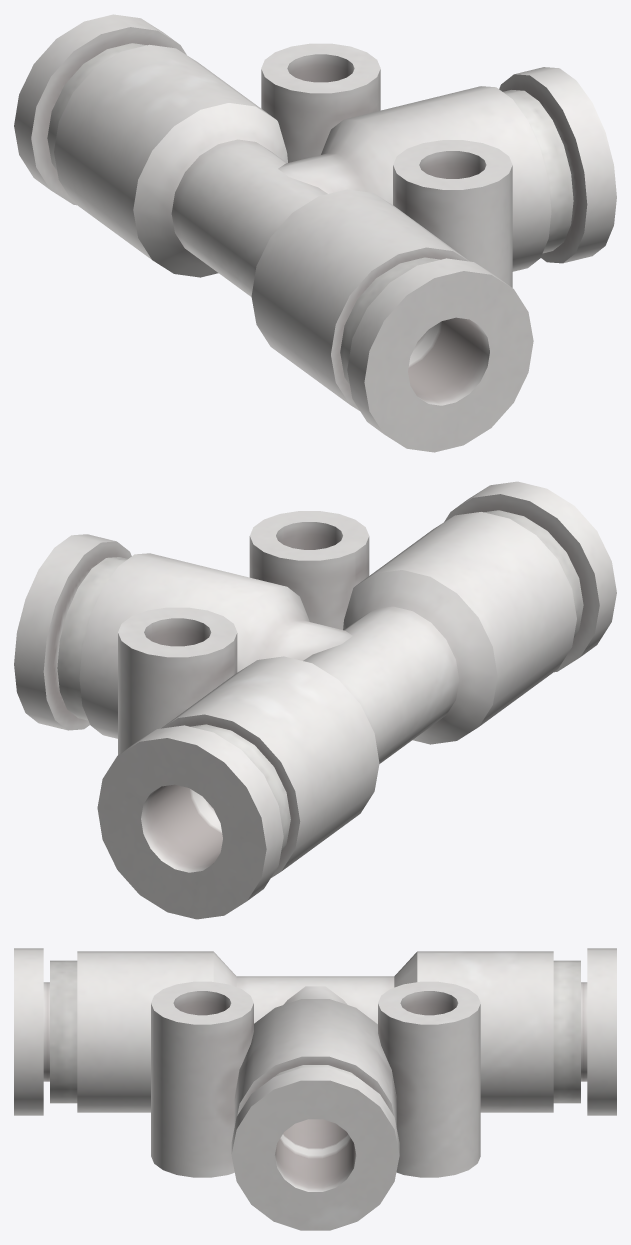
The model's file is 三通气动快插接头.fbx.
3 views of the same model, one above another, from view 1: azimuth 30°, elevation 25°; view 2: azimuth 150°, elevation 25°; view 3: azimuth 270°, elevation 25° (orthographic). The views are drawn at different scales.
Parts seen in each view (by area): view 1: STQDKCJT; view 2: STQDKCJT; view 3: STQDKCJT.
Part boxes in pixels (<box>): STQDKCJT: <box>14,14,616,452</box>; STQDKCJT: <box>14,481,616,919</box>; STQDKCJT: <box>14,948,616,1230</box>.
Size of the model in its own units: 4.79 by 2.15 by 7.68.
